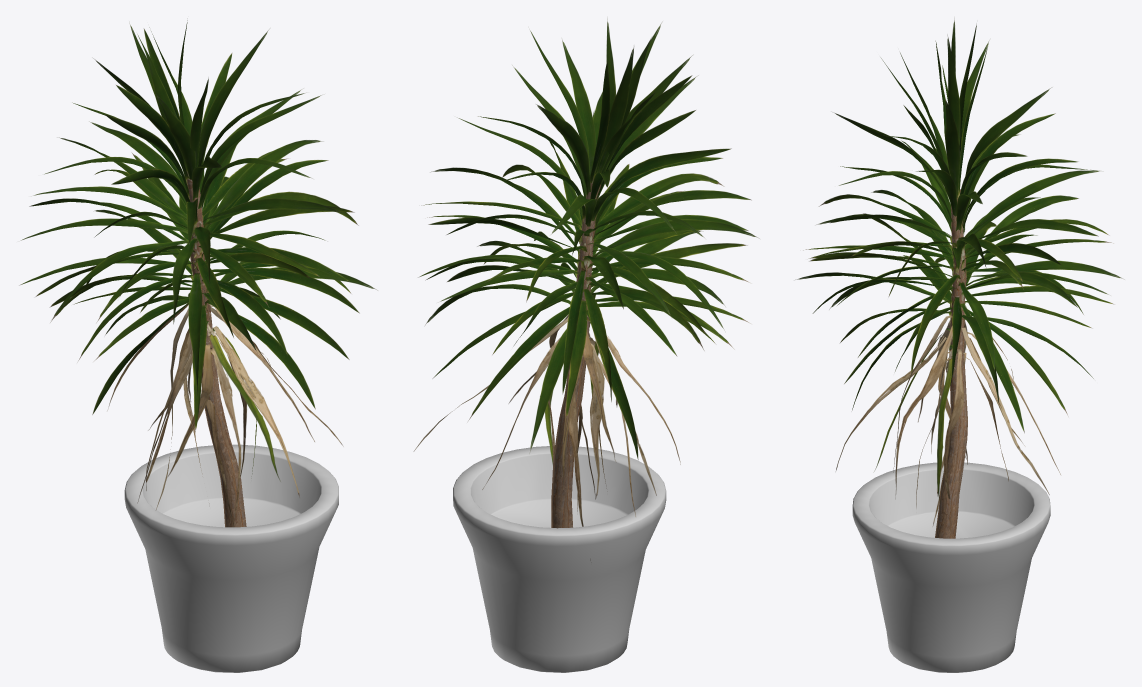
Rendered from plant_palm.glb.
The picture shows the model from 3 angles, left to right: view 1: azimuth 30°, elevation 25°; view 2: azimuth 150°, elevation 25°; view 3: azimuth 270°, elevation 25°; orthographic projection. The views are drawn at different scales.
Parts seen in each view (by area): view 1: 02_2_w; view 2: 02_2_w; view 3: 02_2_w.
Part boxes in pixels (x1=…): 02_2_w: x1=19, y1=20, x2=377, y2=672; 02_2_w: x1=413, y1=18, x2=759, y2=672; 02_2_w: x1=795, y1=18, x2=1124, y2=672.
Size of the model in its own units: 1.12 by 2.3 by 1.18.
2 materials, 1 textured.
